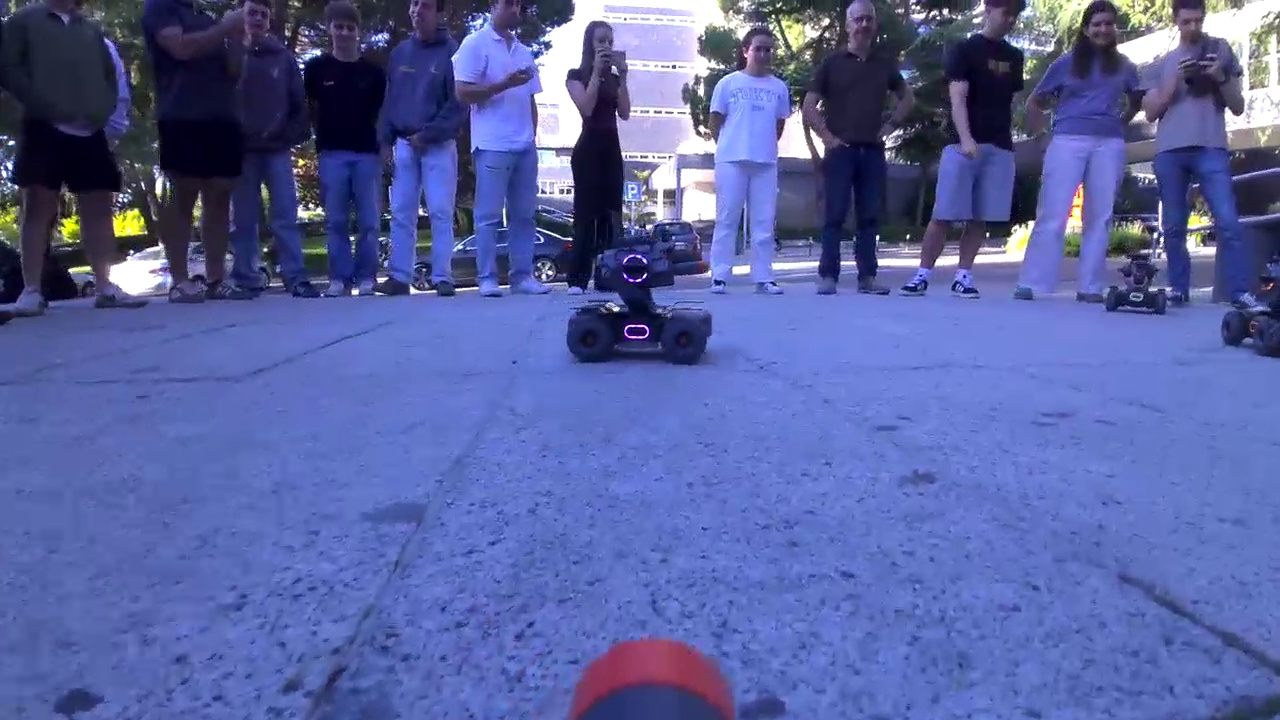robot: (563, 235, 718, 376), (1109, 256, 1174, 322)
